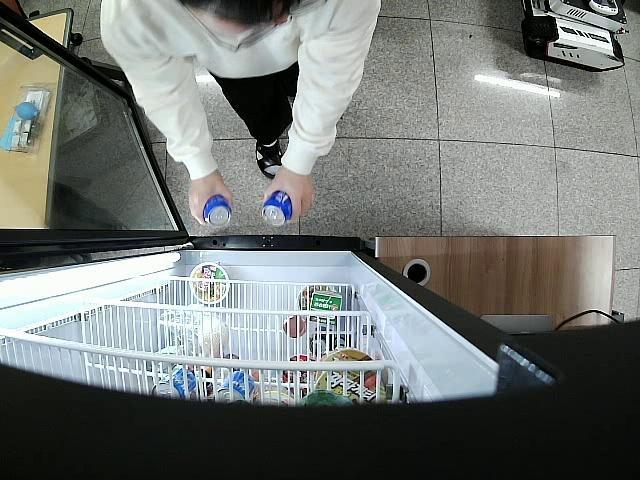13_pocariSweat: (260, 190, 295, 226), (202, 194, 234, 228)
